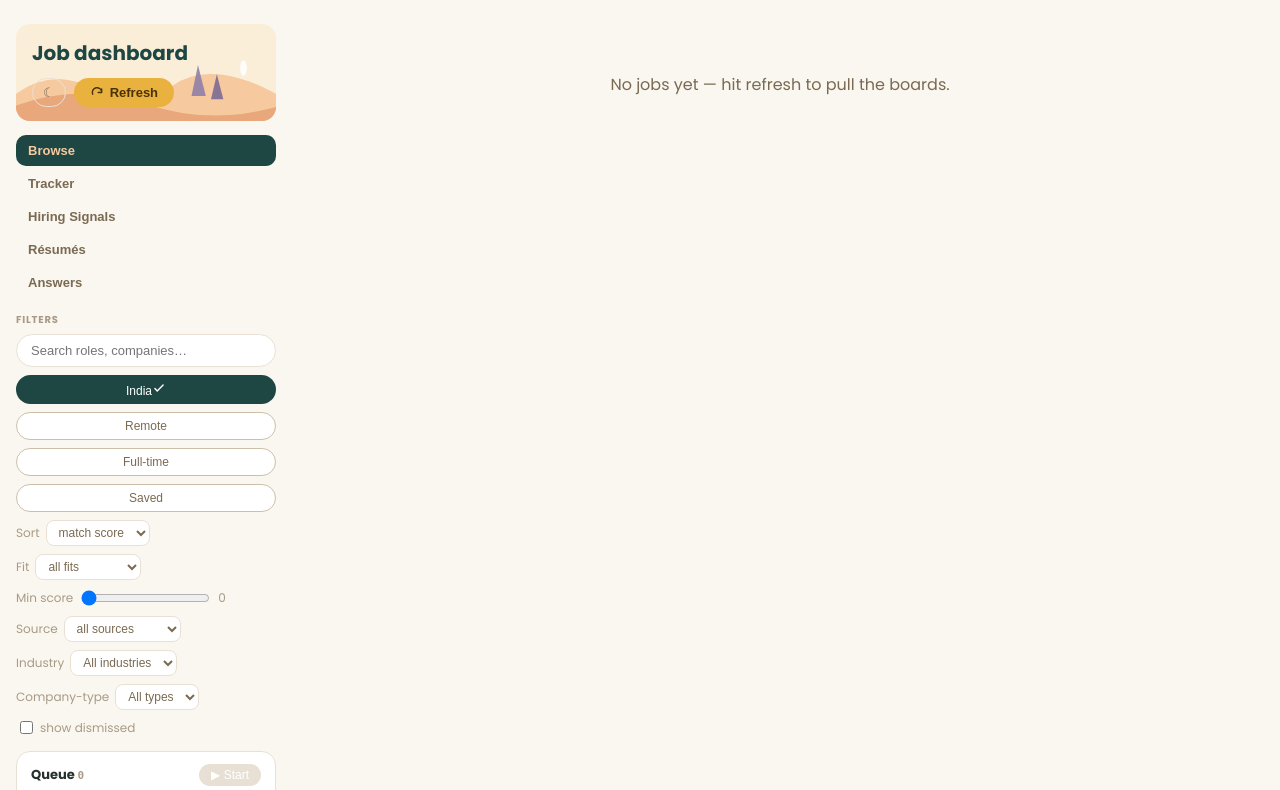
Scenario: switches between Browse and Tracker tabs
Click the button "Tracker" at (51, 184), box [16,168,276,199]
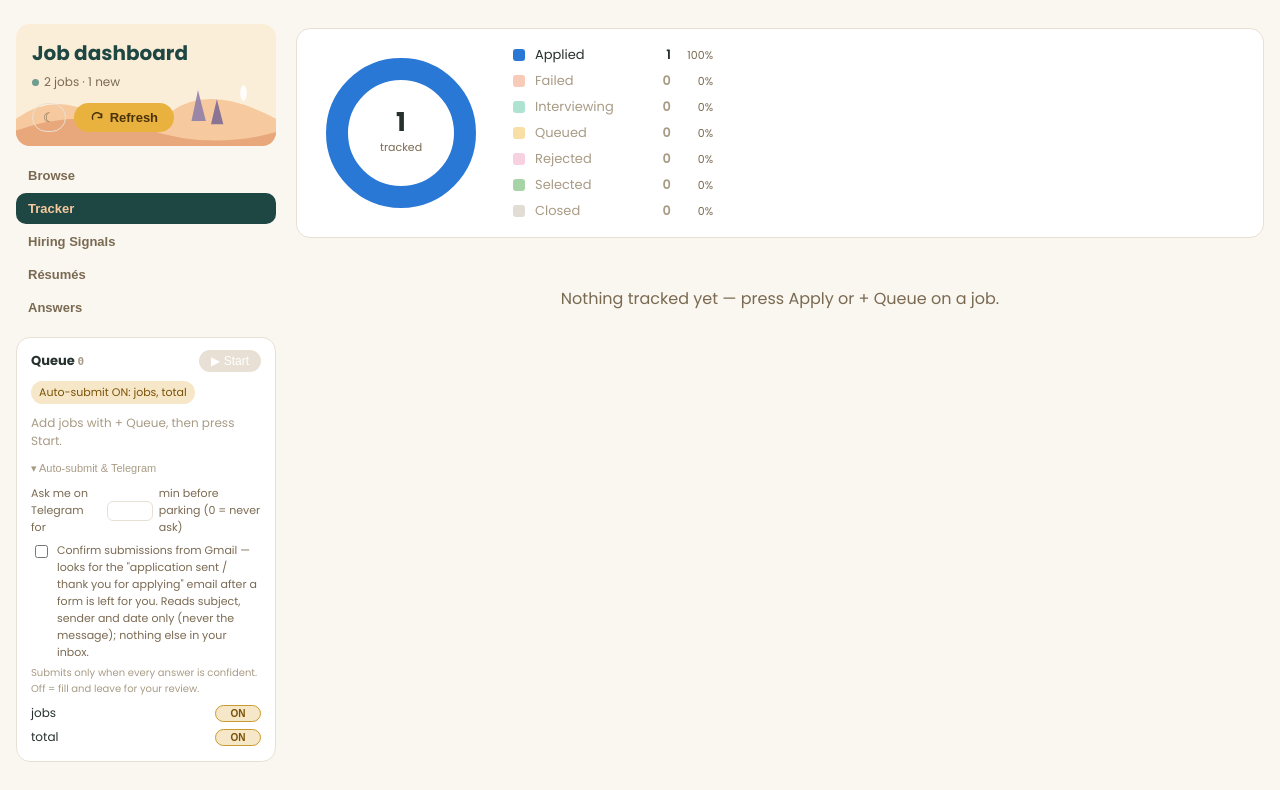
Expected: the text "Nothing tracked yet — press Apply or + Queue on a job." is shown, [561,287,999,310]
Click the button "Browse" at (51, 176), box [16,160,276,191]
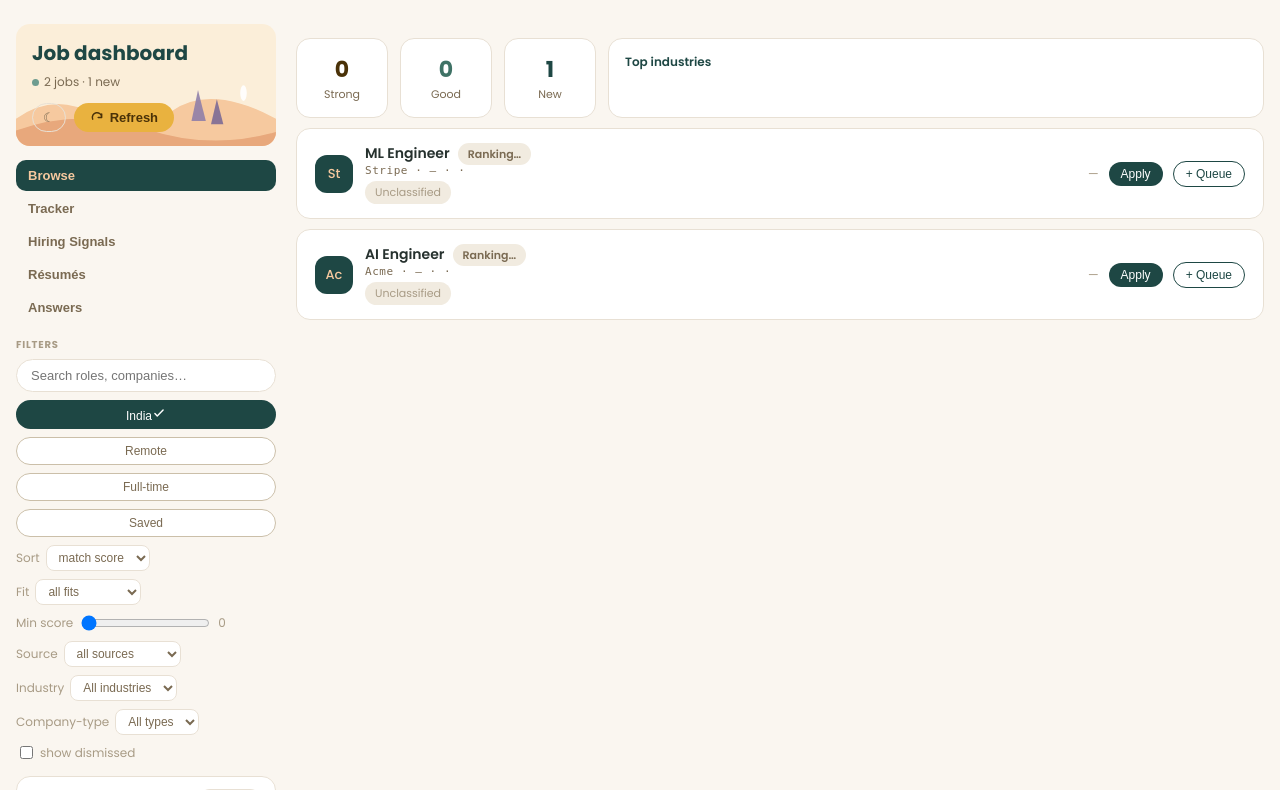
Expected: the element with test id "feed-slot" is shown, [296,38,1264,320]
